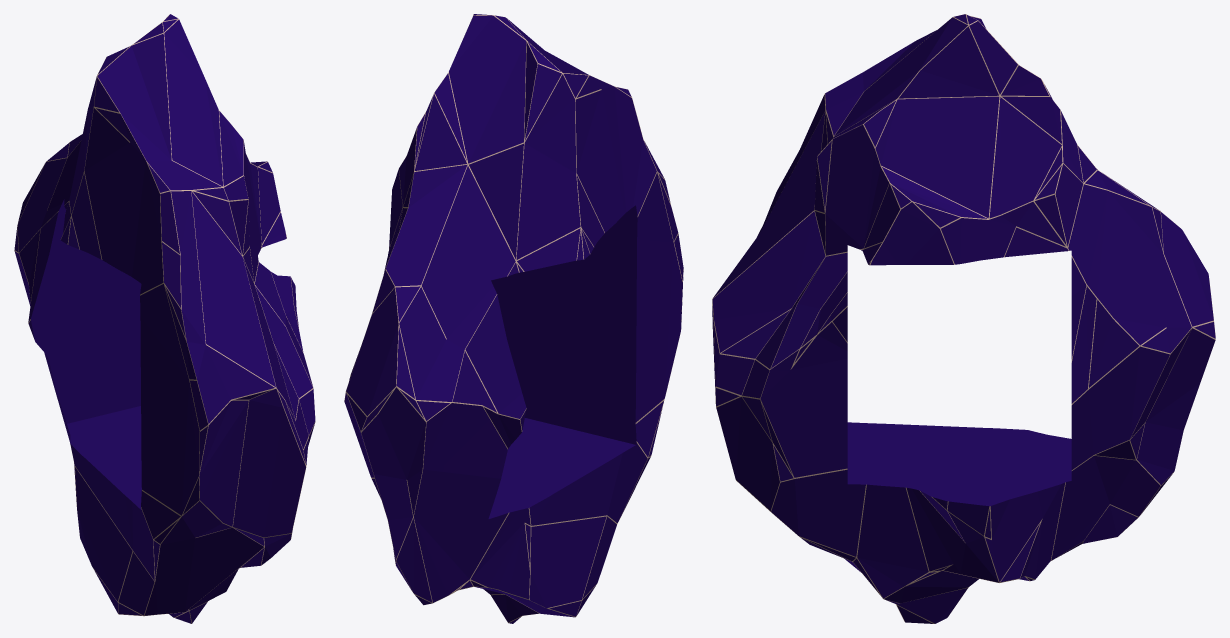
File: rock2.glb
3 renders of one model, left to right at view 1: azimuth 30°, elevation 25°; view 2: azimuth 150°, elevation 25°; view 3: azimuth 270°, elevation 25°, orthographic. The views are drawn at different scales.
Parts seen in each view (by area): view 1: Cube.028; view 2: Cube.028; view 3: Cube.028.
Part boxes in pixels (bbox=[...]): Cube.028: bbox=[14, 14, 315, 623]; Cube.028: bbox=[344, 14, 683, 623]; Cube.028: bbox=[712, 14, 1215, 623].
Size of the model in its own units: 1.17 by 3.62 by 2.7.
